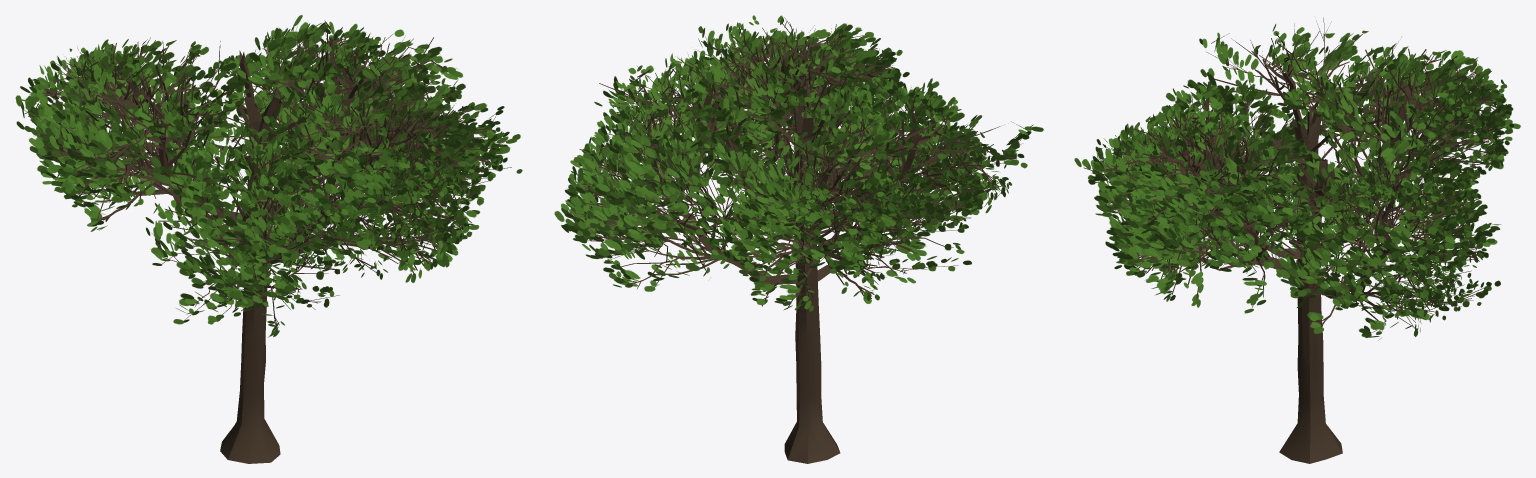
3 views of the same model, side by side, from view 1: azimuth 30°, elevation 25°; view 2: azimuth 150°, elevation 25°; view 3: azimuth 270°, elevation 25° (orthographic). The views are drawn at different scales.
Parts seen in each view (by area): view 1: oak 01.001_trunk_Mat.001_0.103; view 2: oak 01.001_trunk_Mat.001_0.103; view 3: oak 01.001_trunk_Mat.001_0.103.
Boxes of the visible parts, x1,y1,x2,y2 form: oak 01.001_trunk_Mat.001_0.103: [15, 15, 522, 463]; oak 01.001_trunk_Mat.001_0.103: [554, 15, 1043, 463]; oak 01.001_trunk_Mat.001_0.103: [1074, 18, 1520, 463].
Size of the model in its own units: 4.82 by 4.13 by 4.71.
Materials: 2 (1 with a texture image).
